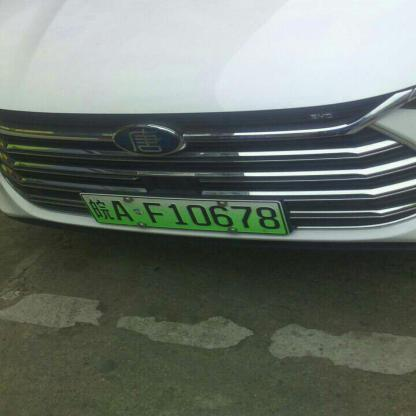lp: (78, 193, 286, 232)
